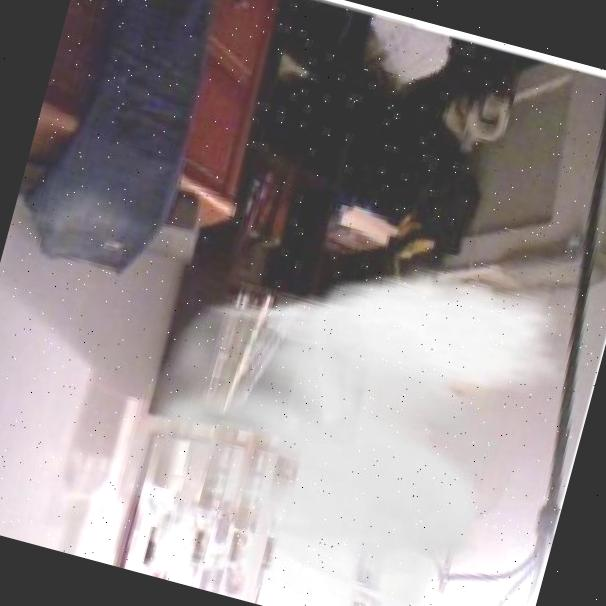smoke: (137, 205, 605, 606)
